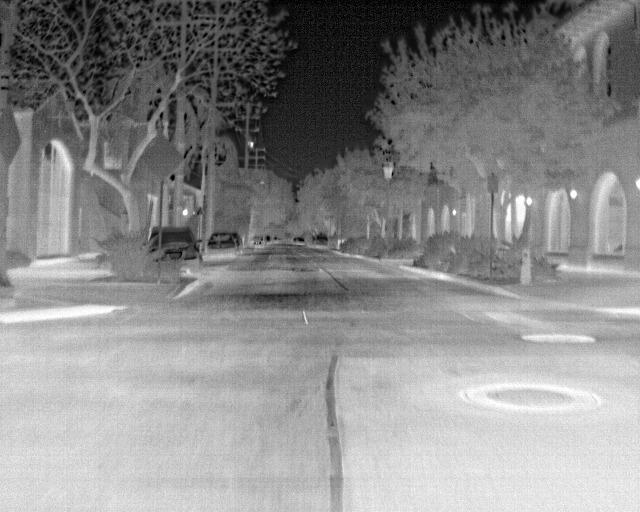bicycle: (149, 226, 205, 276), (205, 231, 240, 260), (309, 233, 329, 251), (248, 234, 267, 250), (290, 235, 304, 247)
